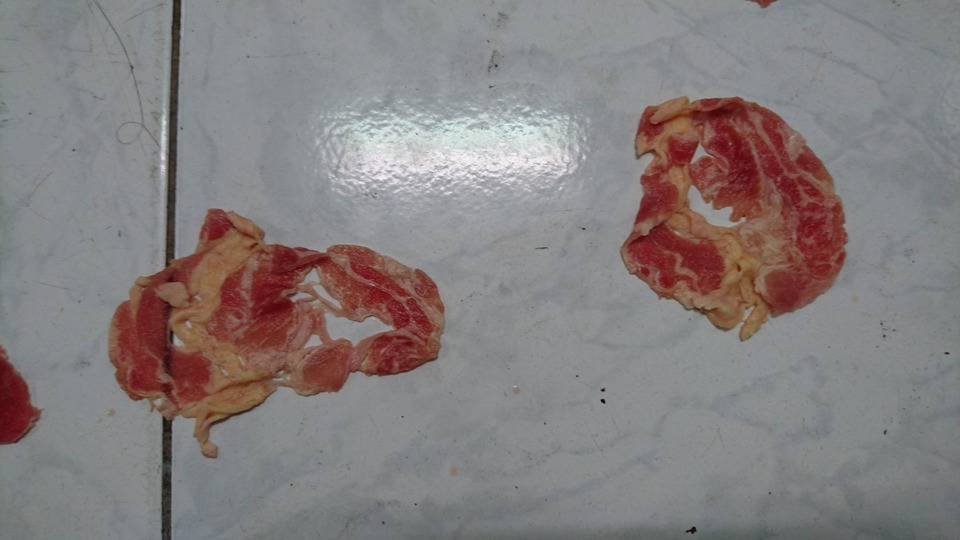restructured meat: (92, 211, 460, 430), (603, 57, 851, 353)
